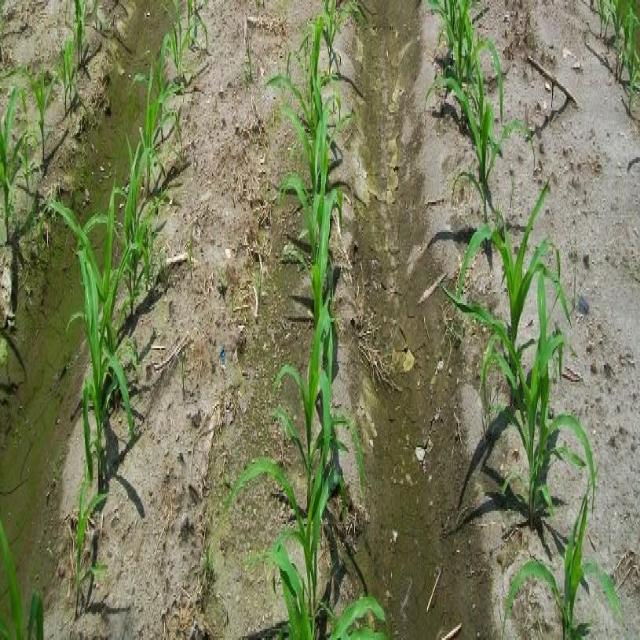row: (91, 0, 317, 640), (354, 0, 534, 640), (481, 2, 640, 640)
